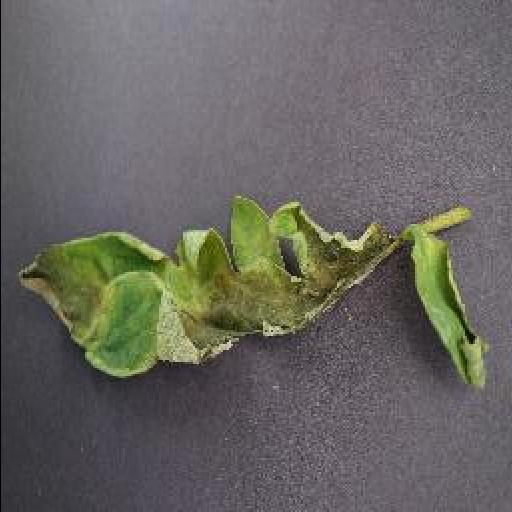disease_tomato: (17, 196, 403, 376), (410, 240, 486, 390)
